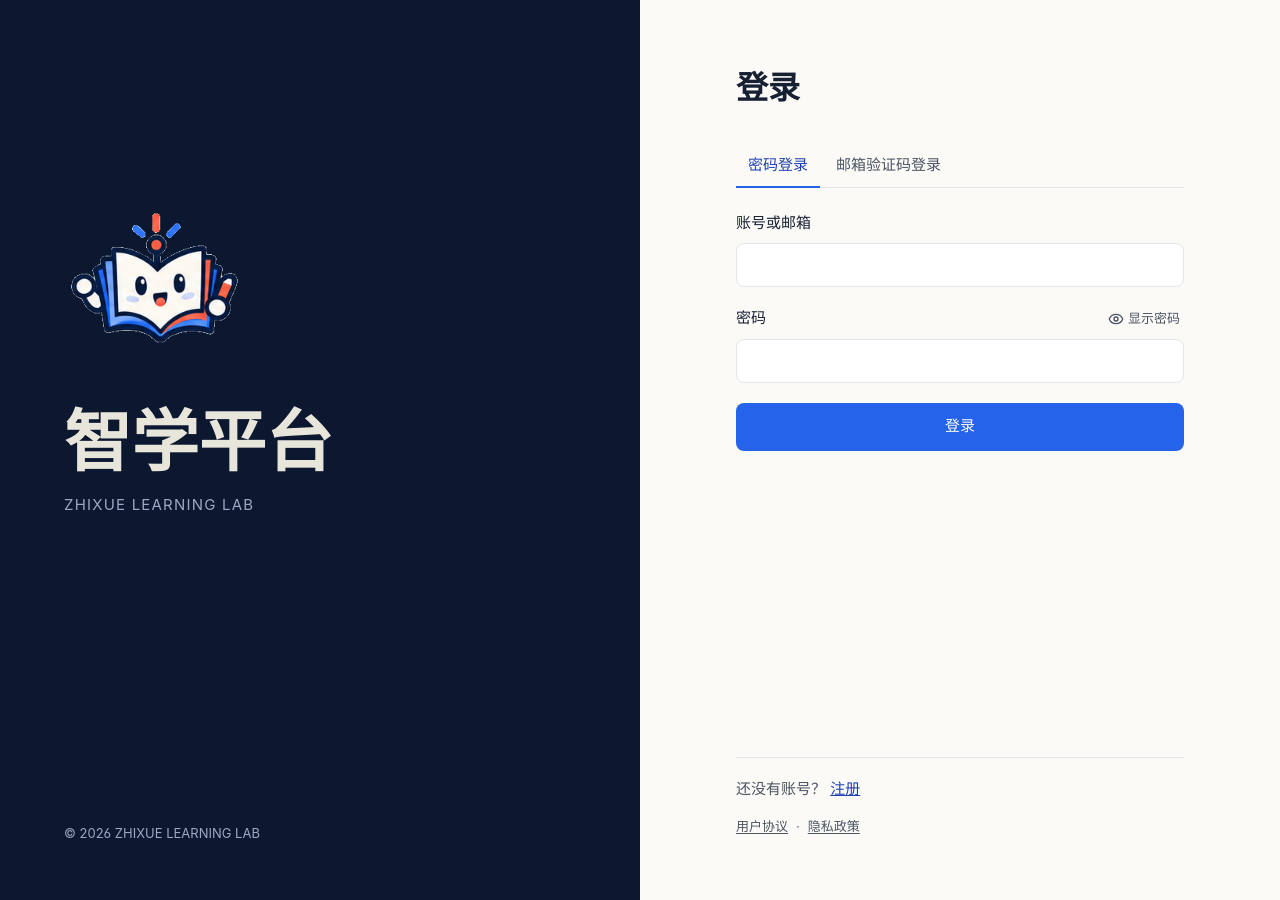
login page › shows the server’s own refusal without moving the visitor
This screenshot has width=1280, height=900.
Expected: the heading "登录" is shown, [736,68,800,107]
Type "learner_a" into the field labelled "账号或邮箱" at (960, 264), box [736,242,1184,286]
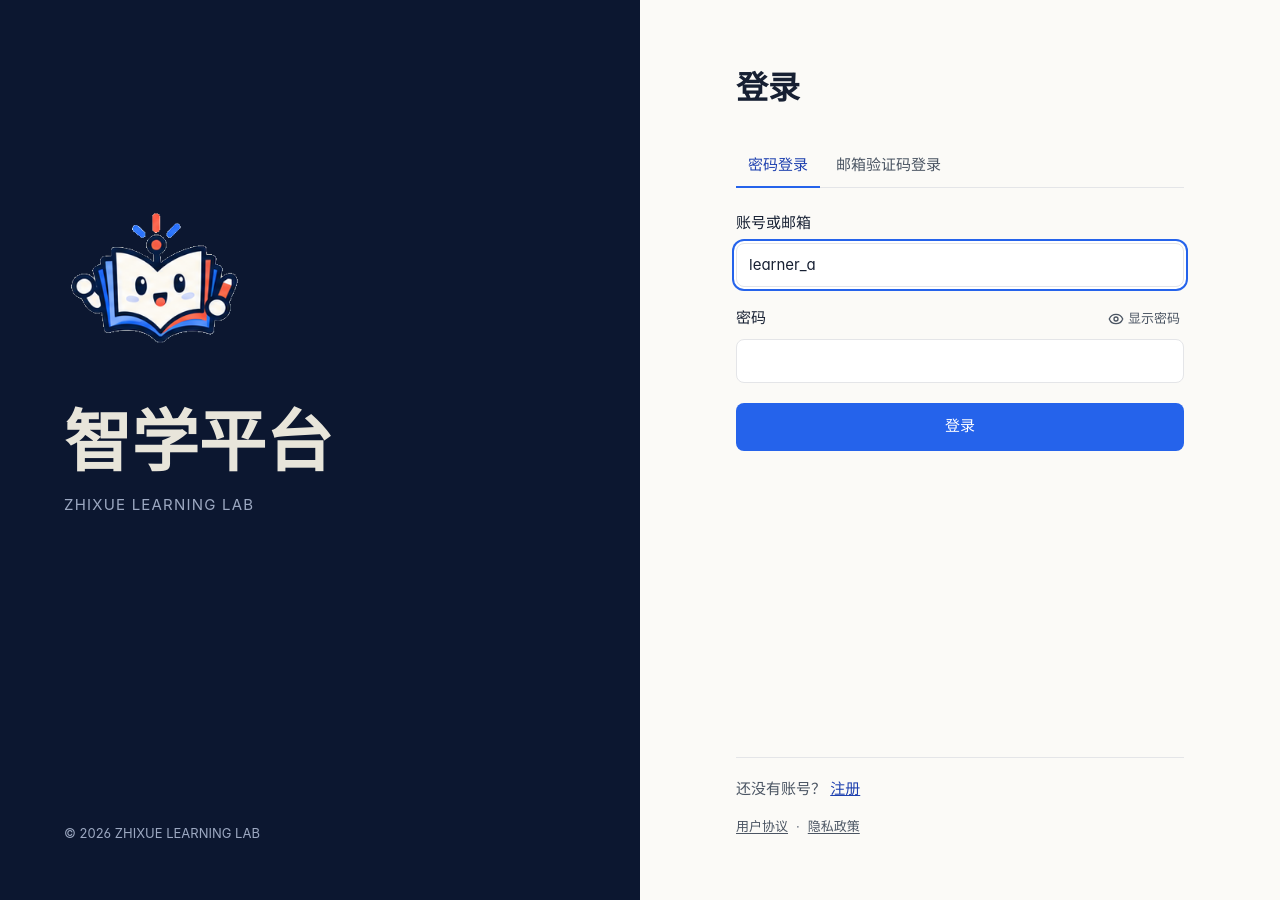
Type "wrong-password" into the password field labelled "密码" at (960, 360), box [736,338,1184,382]
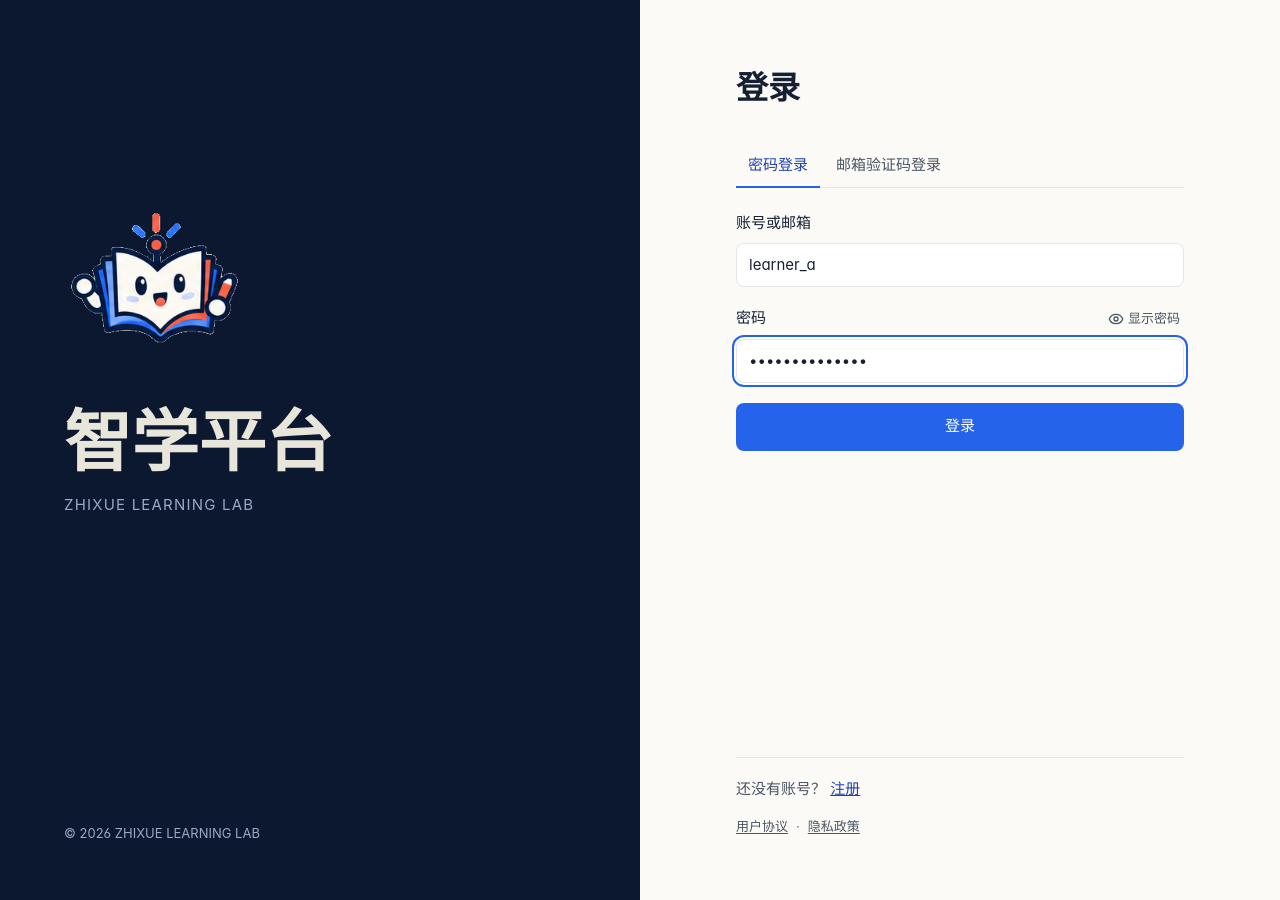
Click the button "登录" at (960, 426), box [736,402,1184,450]
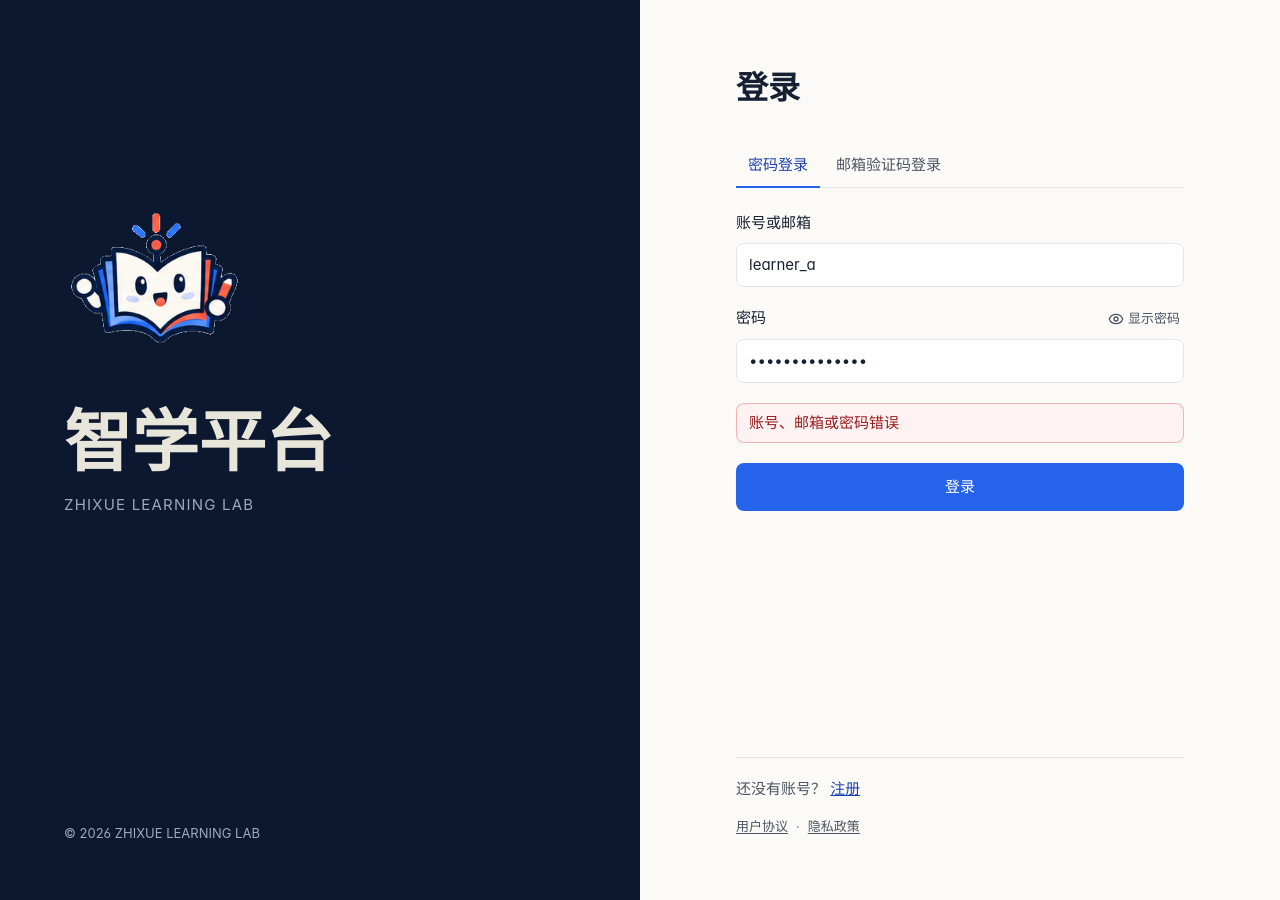
Expected: the message reads "账号、邮箱或密码错误", [749,412,899,432]
